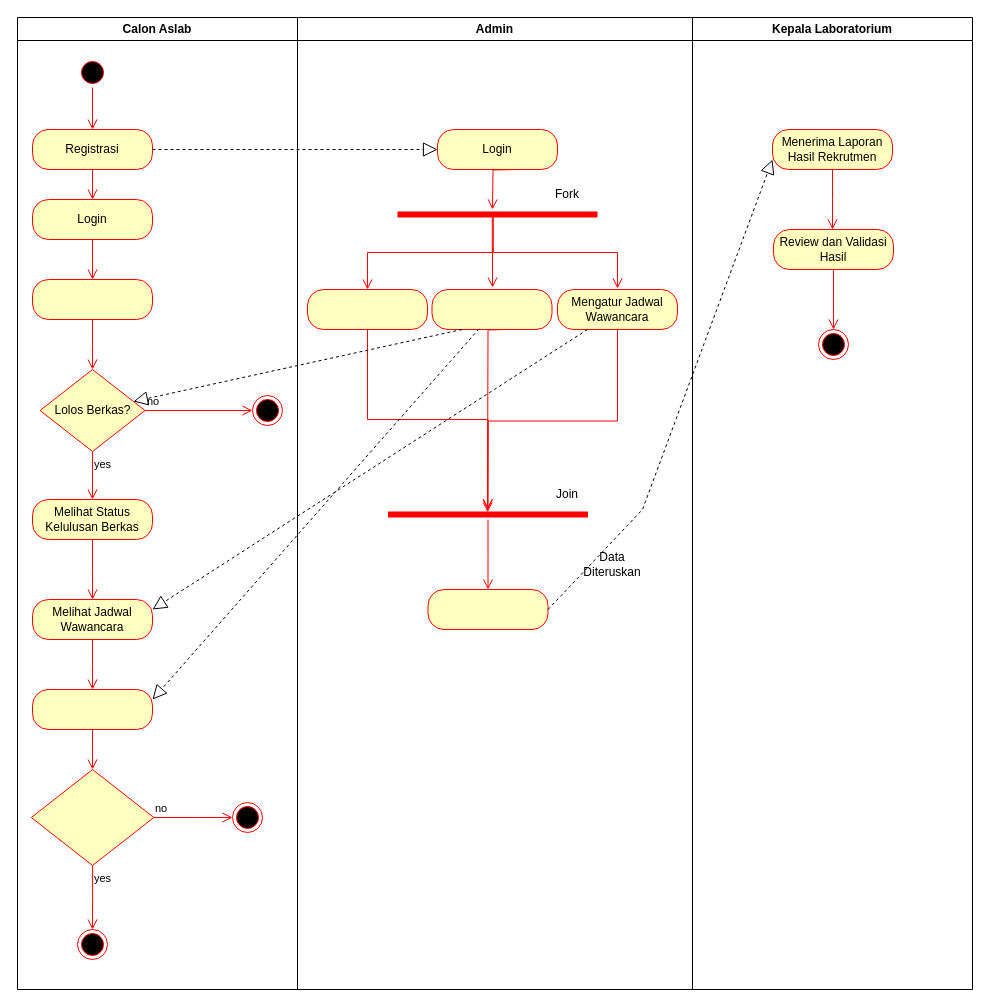
Some shapes in this 990 by 1007 pixel diagram are drawn without their labels. Each missing label, with the centre of its shape:
Lolos Tahap Final?: the point at 92,817
Melihat Data Pendaftar: the point at 367,309
Melihat Status Kelulusan Final: the point at 92,709
Mengisi data diri & upload dokumen: the point at 92,299
Mengunduh Laporan Hasil Rekrutmen: the point at 487,609
Menilai Berkas Pendaftar: the point at 491,309
